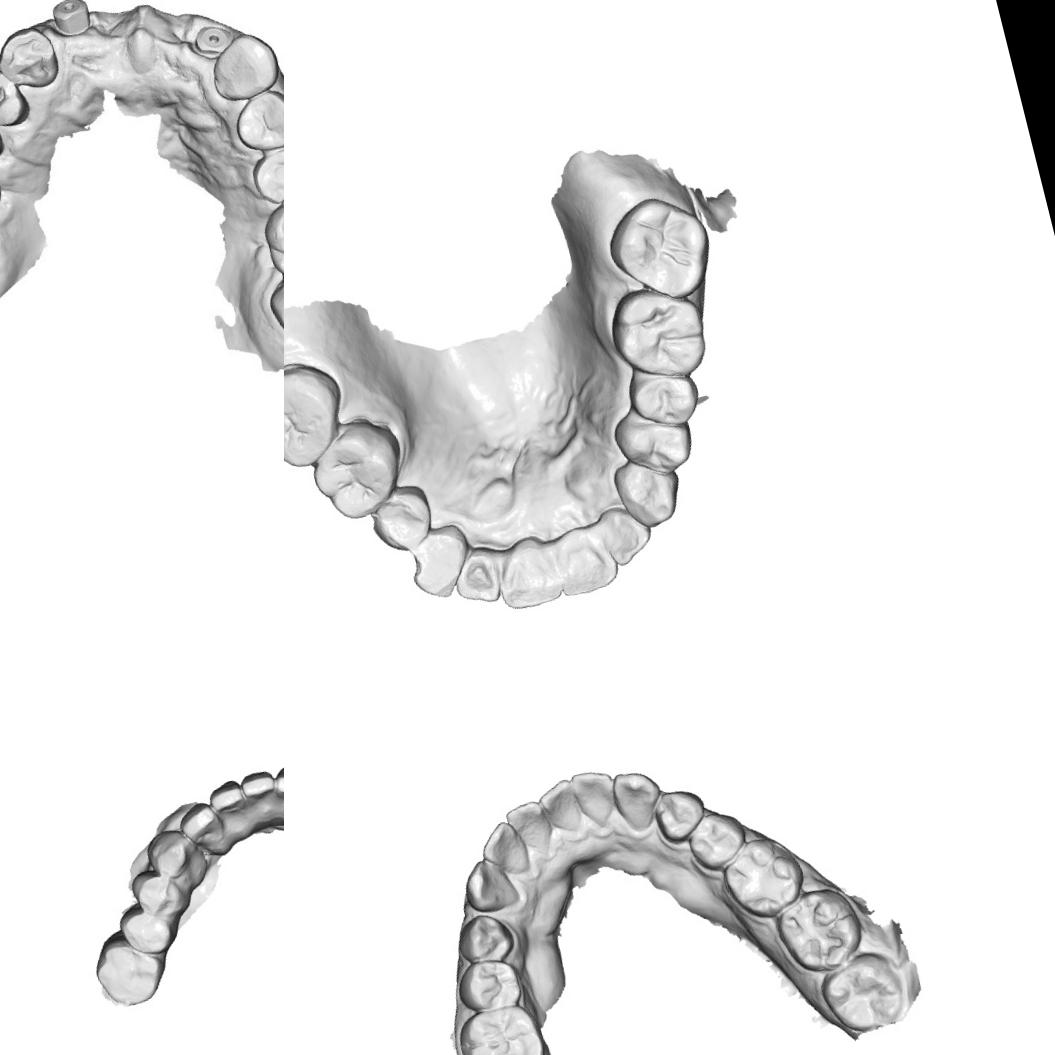canine: (608, 449, 688, 534), (200, 28, 283, 108), (402, 525, 477, 605), (454, 850, 524, 918), (0, 23, 63, 98), (608, 762, 671, 837), (144, 827, 201, 889)
implant: (184, 15, 232, 64), (44, 0, 92, 36)
incisor: (486, 532, 566, 611), (546, 516, 619, 601), (594, 499, 658, 571), (472, 814, 534, 882), (566, 764, 624, 831), (448, 545, 506, 609), (500, 796, 557, 860), (534, 774, 586, 842), (176, 800, 222, 850), (235, 766, 280, 815), (203, 778, 250, 824), (267, 760, 284, 813)
molar: (598, 183, 721, 313), (600, 274, 714, 390), (298, 412, 412, 528), (766, 878, 872, 980), (712, 825, 813, 926), (812, 944, 912, 1038), (284, 356, 353, 477), (86, 924, 168, 1014), (450, 997, 552, 1055), (260, 191, 284, 277)
premolar: (607, 396, 698, 484), (623, 362, 704, 439), (363, 478, 440, 558), (678, 802, 755, 877), (448, 950, 526, 1020), (646, 780, 714, 850), (449, 906, 520, 972), (114, 895, 179, 962), (128, 864, 192, 925), (229, 87, 284, 154), (249, 139, 284, 208), (0, 64, 25, 130)
